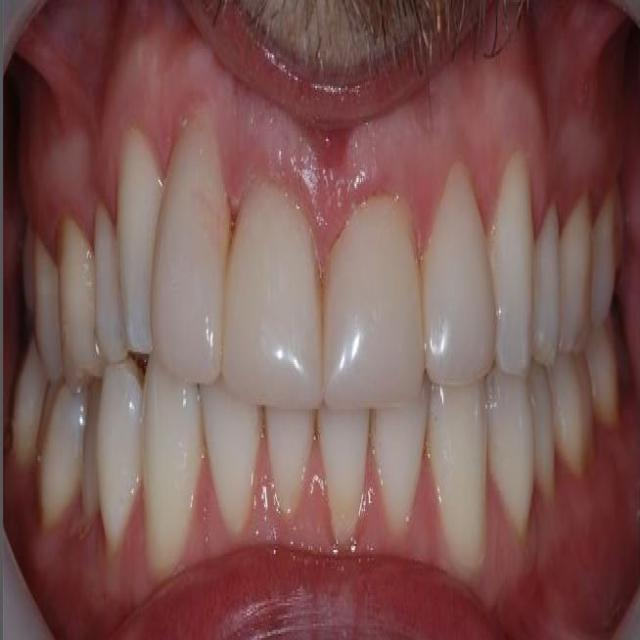1st Molar: (39, 377, 86, 523), (550, 351, 594, 474), (592, 188, 623, 322), (32, 241, 62, 376)
1st Premolar: (99, 360, 142, 552), (486, 374, 534, 542), (91, 207, 122, 358), (534, 204, 563, 364)
2nd Molar: (583, 315, 623, 428), (10, 341, 46, 454), (21, 229, 32, 301)
2nd Premolar: (56, 215, 100, 374), (560, 198, 592, 354), (529, 366, 556, 491), (83, 376, 101, 517)
Canine: (143, 366, 202, 585), (429, 385, 487, 577), (118, 129, 165, 358), (488, 153, 535, 376)
Central Incisor: (224, 186, 324, 407), (323, 196, 424, 411), (318, 411, 370, 548), (266, 411, 313, 517)
Lateral Incisor: (152, 106, 230, 386), (422, 160, 495, 386), (200, 384, 263, 538), (370, 393, 427, 532)
